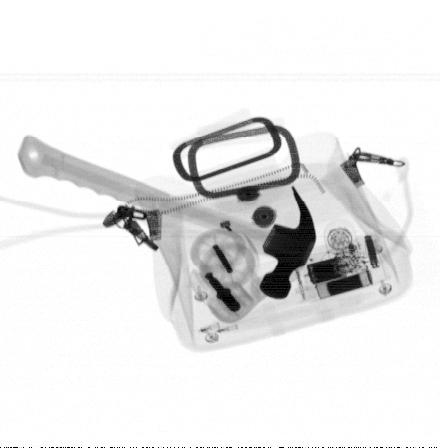Hammer: (17, 135, 318, 301)
